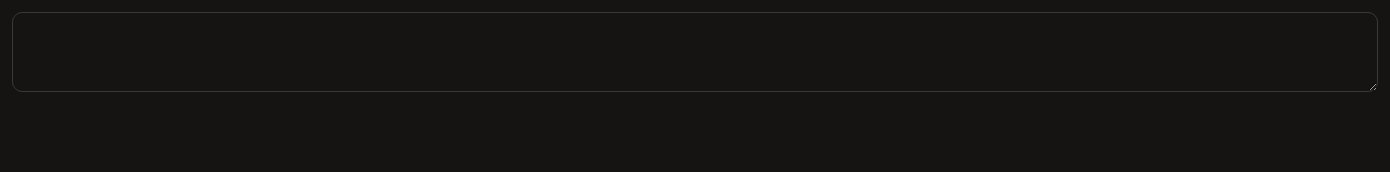
Test: autocomplete field › accepts an explicit pointer selection and lets Escape dismiss without changing content
In the dropdown named "Ingredientes": [695, 52] box [12,12,1378,92], type "que"
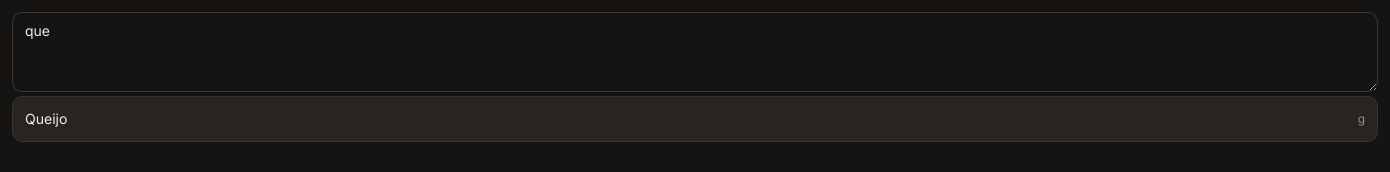
Press Escape in the dropdown named "Ingredientes", box [12,12,1378,92]
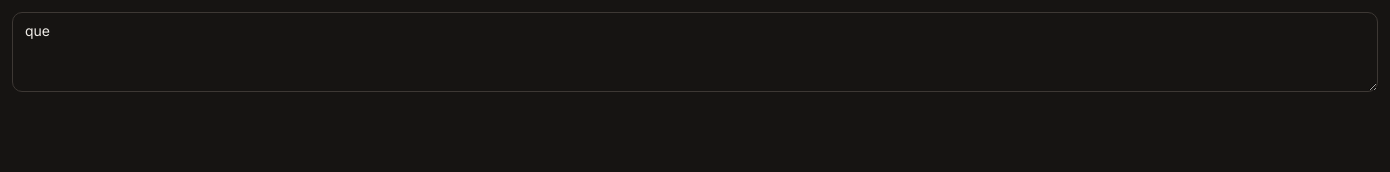
Now the list is gone
Replace the text in the dropdown named "Ingredientes" with "quei": [695, 52] box [12,12,1378,92]
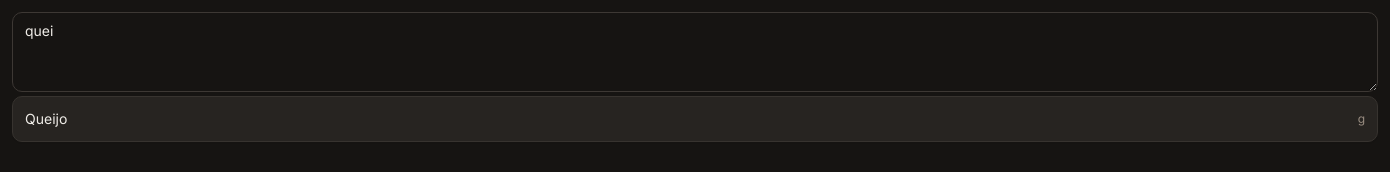
Click the button "Queijo g": [46, 118] box [17,101,1373,137]
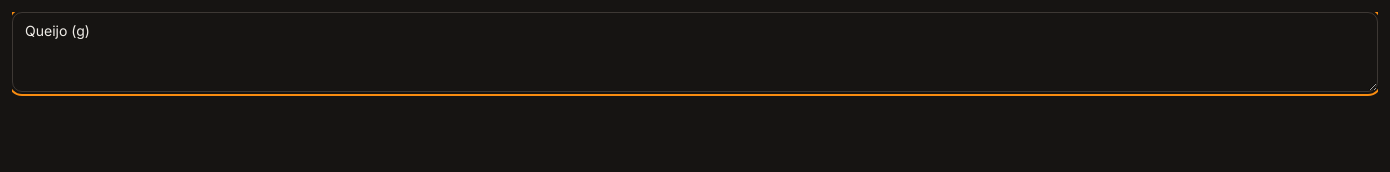
Now the dropdown named "Ingredientes" holds "Queijo (g)", box [12,12,1378,92]
